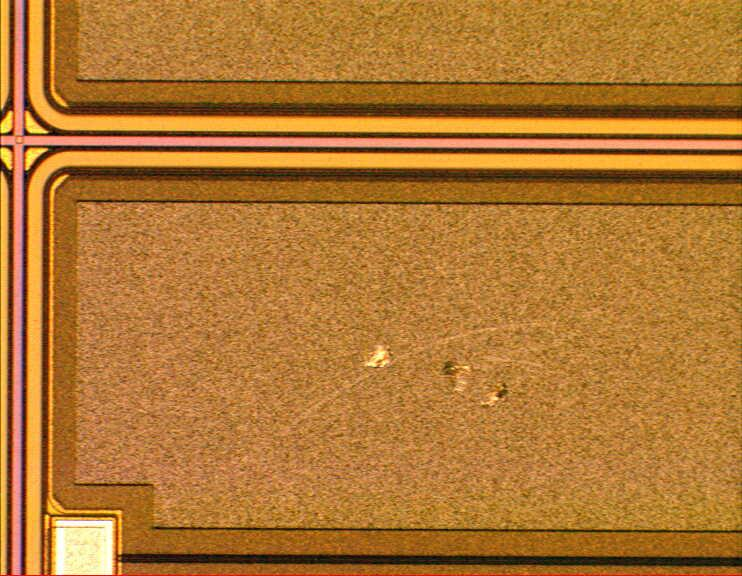SCRATCH: (280, 316, 585, 432)
